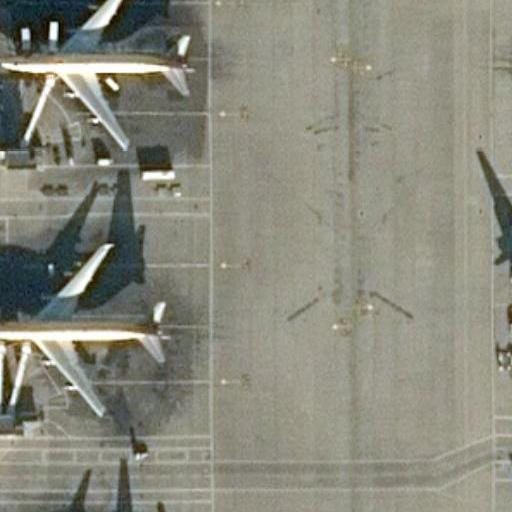Aircraft: (1, 241, 180, 415), (0, 238, 171, 417), (1, 0, 195, 155), (1, 0, 192, 152), (498, 213, 512, 393), (505, 217, 512, 393)
